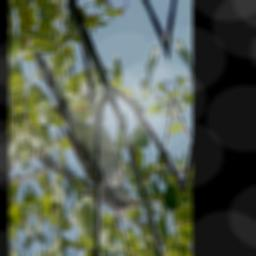Cuckoo: (31, 23, 143, 236)
